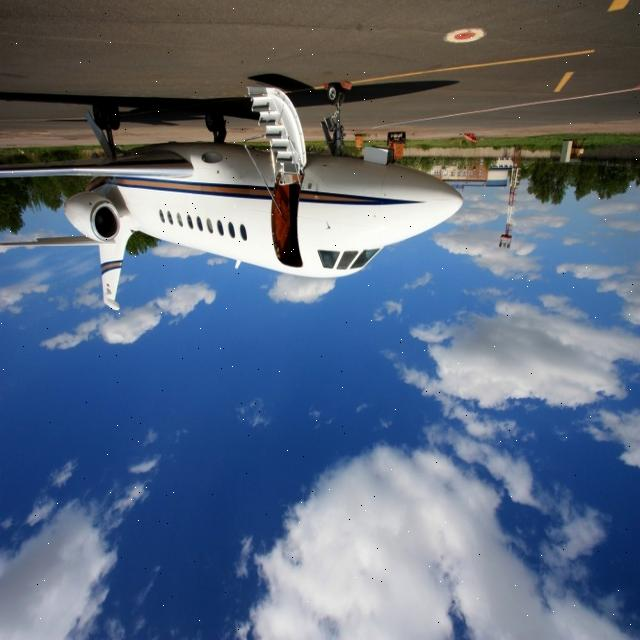jet: (0, 0, 495, 429)
